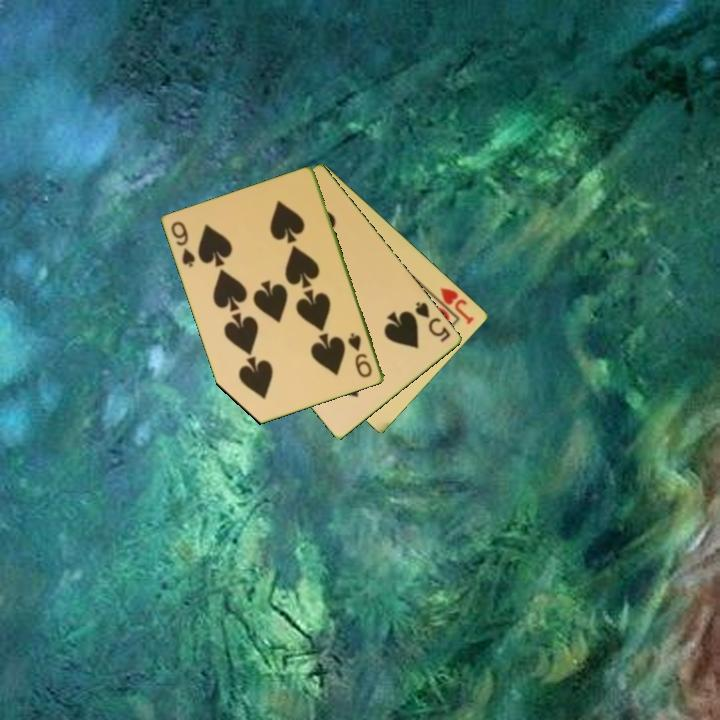5s: (412, 298, 454, 345)
9s: (167, 218, 199, 270), (345, 329, 375, 381)
Jh: (437, 284, 477, 327)
